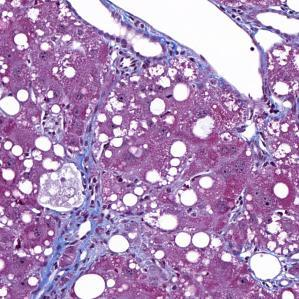fibrosis: (56, 212, 146, 270), (79, 126, 109, 207)
